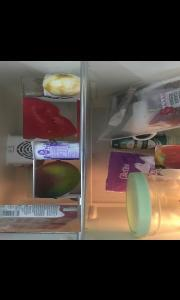Manzana: (155, 144, 180, 168)
Yogur: (32, 140, 80, 160)
